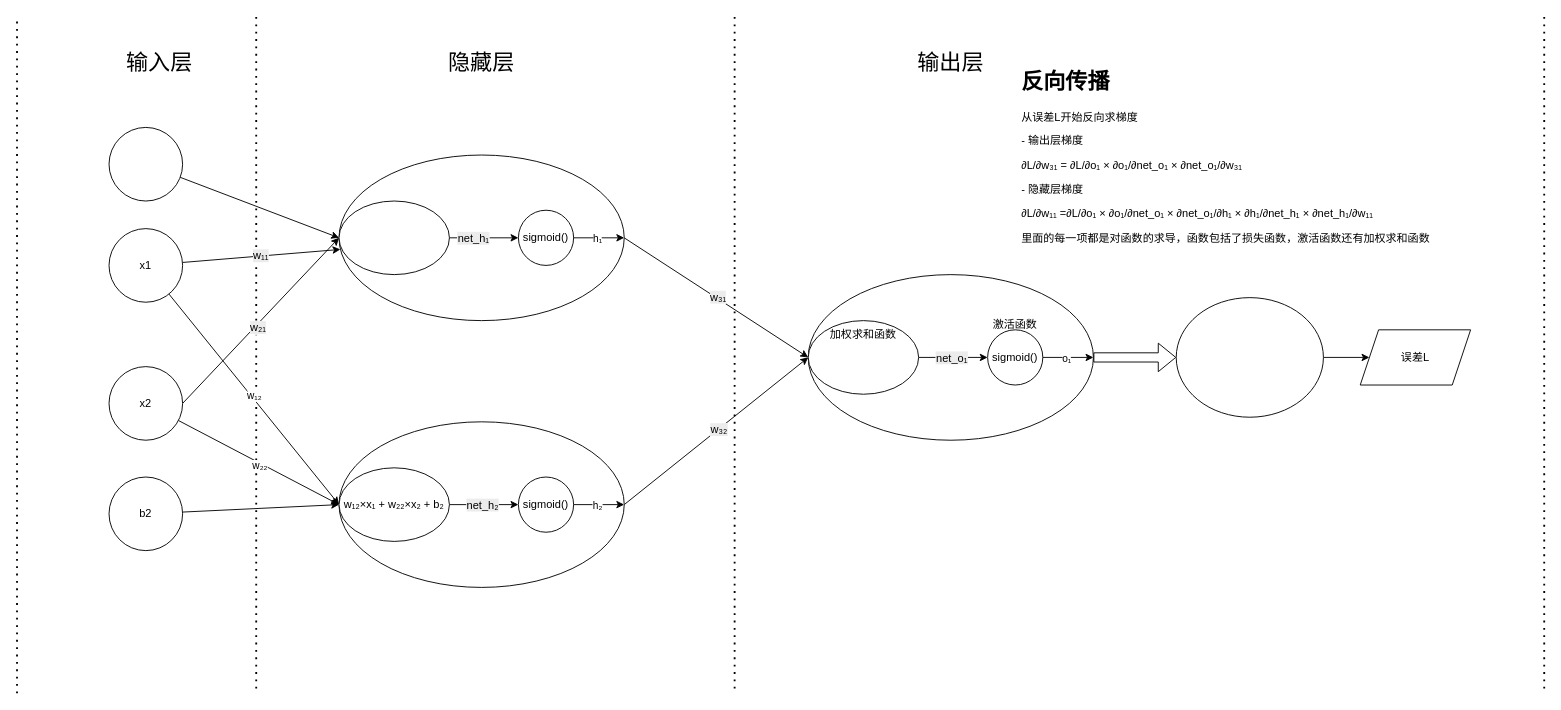
The diagram is 1561 pixels wide and 710 high, and some of its shapes have lost their labels. Each missing label, with the box of its shape:
b1: (108, 126, 183, 201)
w₁₁×x₁ + w₂₁×x₂ + b₁: (338, 200, 449, 275)
w₃₁×h₁ + w₃₂×h₂ + b₃: (807, 320, 919, 394)
损失函数 均方误差函数: (1175, 297, 1323, 417)
